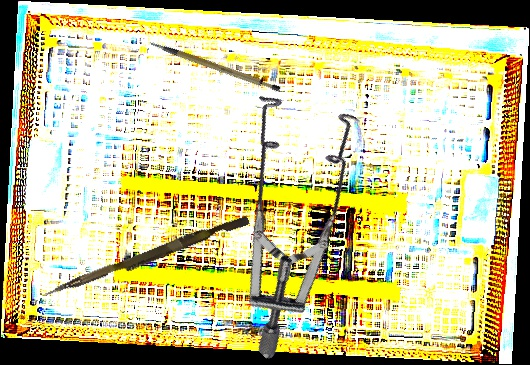Pusher: (43, 209, 250, 306)
Scalpel Handle: (147, 21, 283, 109)
Speculum: (132, 60, 431, 361)
